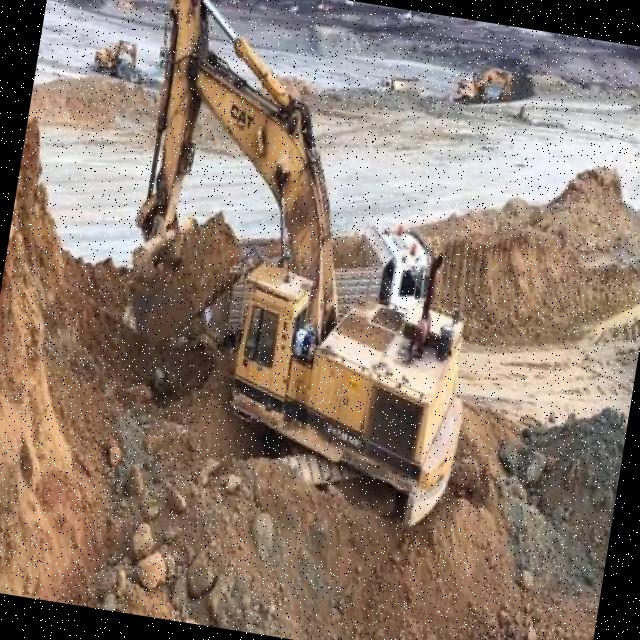Dump Truck: (329, 210, 436, 316), (378, 72, 421, 95)
Excavator: (88, 0, 523, 529), (452, 58, 516, 110), (86, 35, 140, 81)
